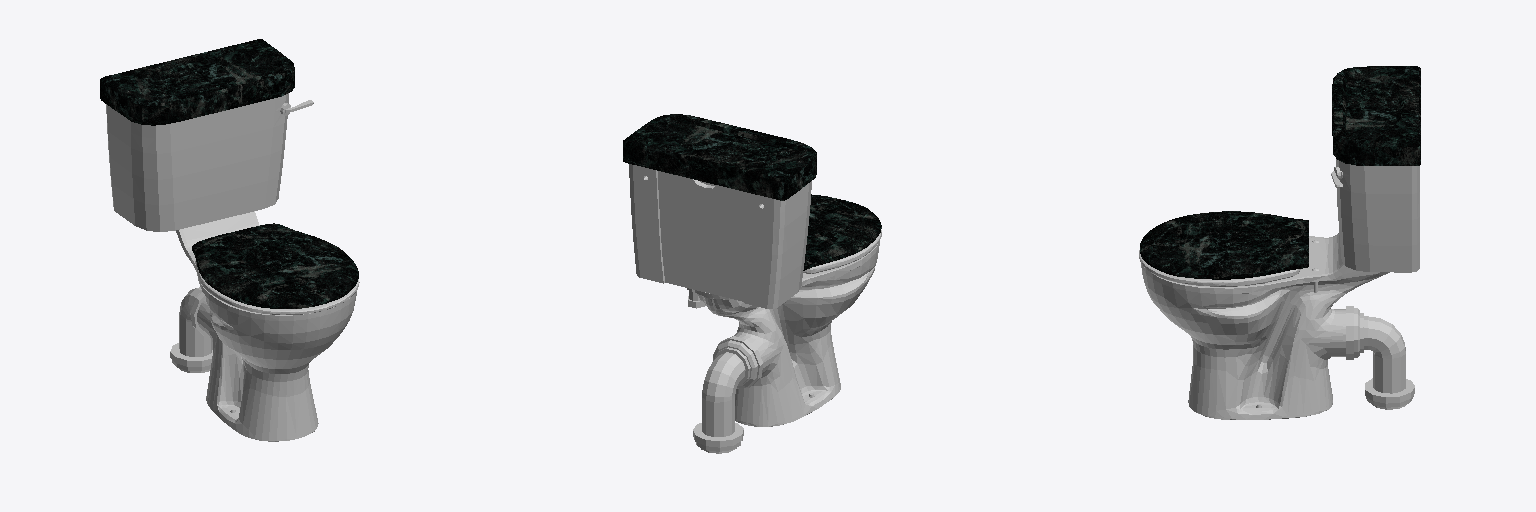
The picture shows the model from 3 angles: view 1: azimuth 30°, elevation 25°; view 2: azimuth 150°, elevation 25°; view 3: azimuth 270°, elevation 25°; orthographic projection.
Visible parts, largest first — view 1: Cube.010, pan.001, Cube.011, Cube.014, Cube.015, Cube.016; view 2: Cube.010, pan.001, Cube.011, Cube.015, Cube.014, Cube.016; view 3: pan.001, Cube.014, Cube.011, Cube.010, Cube.015, Cube.016.
Part boxes in pixels (x1,y1,x2,y2): Cube.010: (106, 93, 288, 231); pan.001: (176, 211, 356, 441); Cube.011: (100, 39, 294, 125); Cube.014: (192, 223, 358, 308); Cube.015: (170, 287, 212, 372); Cube.016: (195, 261, 359, 314); Cube.010: (629, 164, 811, 308); pan.001: (695, 242, 879, 426); Cube.011: (623, 114, 816, 200); Cube.015: (693, 336, 762, 453); Cube.014: (803, 194, 881, 270); Cube.016: (803, 230, 881, 273); pan.001: (1141, 233, 1389, 419); Cube.014: (1140, 211, 1308, 279); Cube.011: (1332, 66, 1420, 165); Cube.010: (1336, 159, 1419, 272); Cube.015: (1346, 306, 1414, 409); Cube.016: (1139, 250, 1300, 286).
Size of the model in its own units: 0.4027 by 0.656 by 0.565.
4 materials, 1 textured.